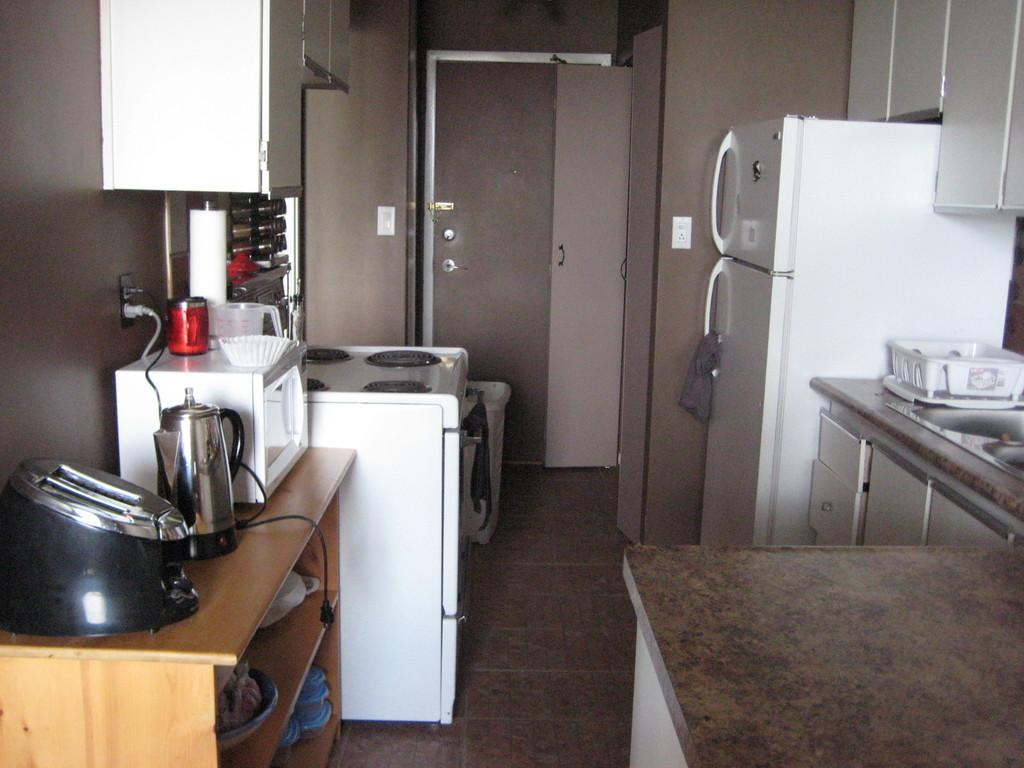cabinet_door: (552, 62, 618, 472), (630, 44, 664, 547), (265, 8, 303, 190), (815, 466, 856, 531), (820, 420, 864, 474), (328, 16, 352, 80), (303, 9, 327, 64)
handle: (698, 126, 734, 262), (932, 490, 1014, 534), (698, 260, 728, 372), (873, 449, 929, 488), (816, 413, 866, 445), (612, 256, 631, 284)
